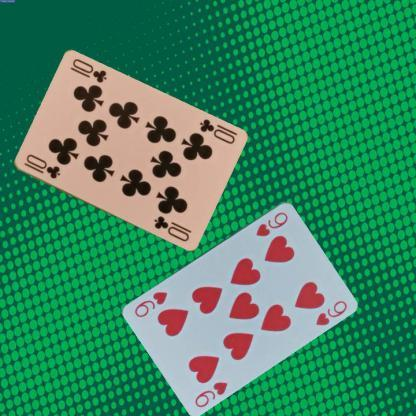10c: (196, 116, 236, 146), (21, 152, 62, 180)
9h: (192, 378, 230, 408), (253, 208, 290, 238)
